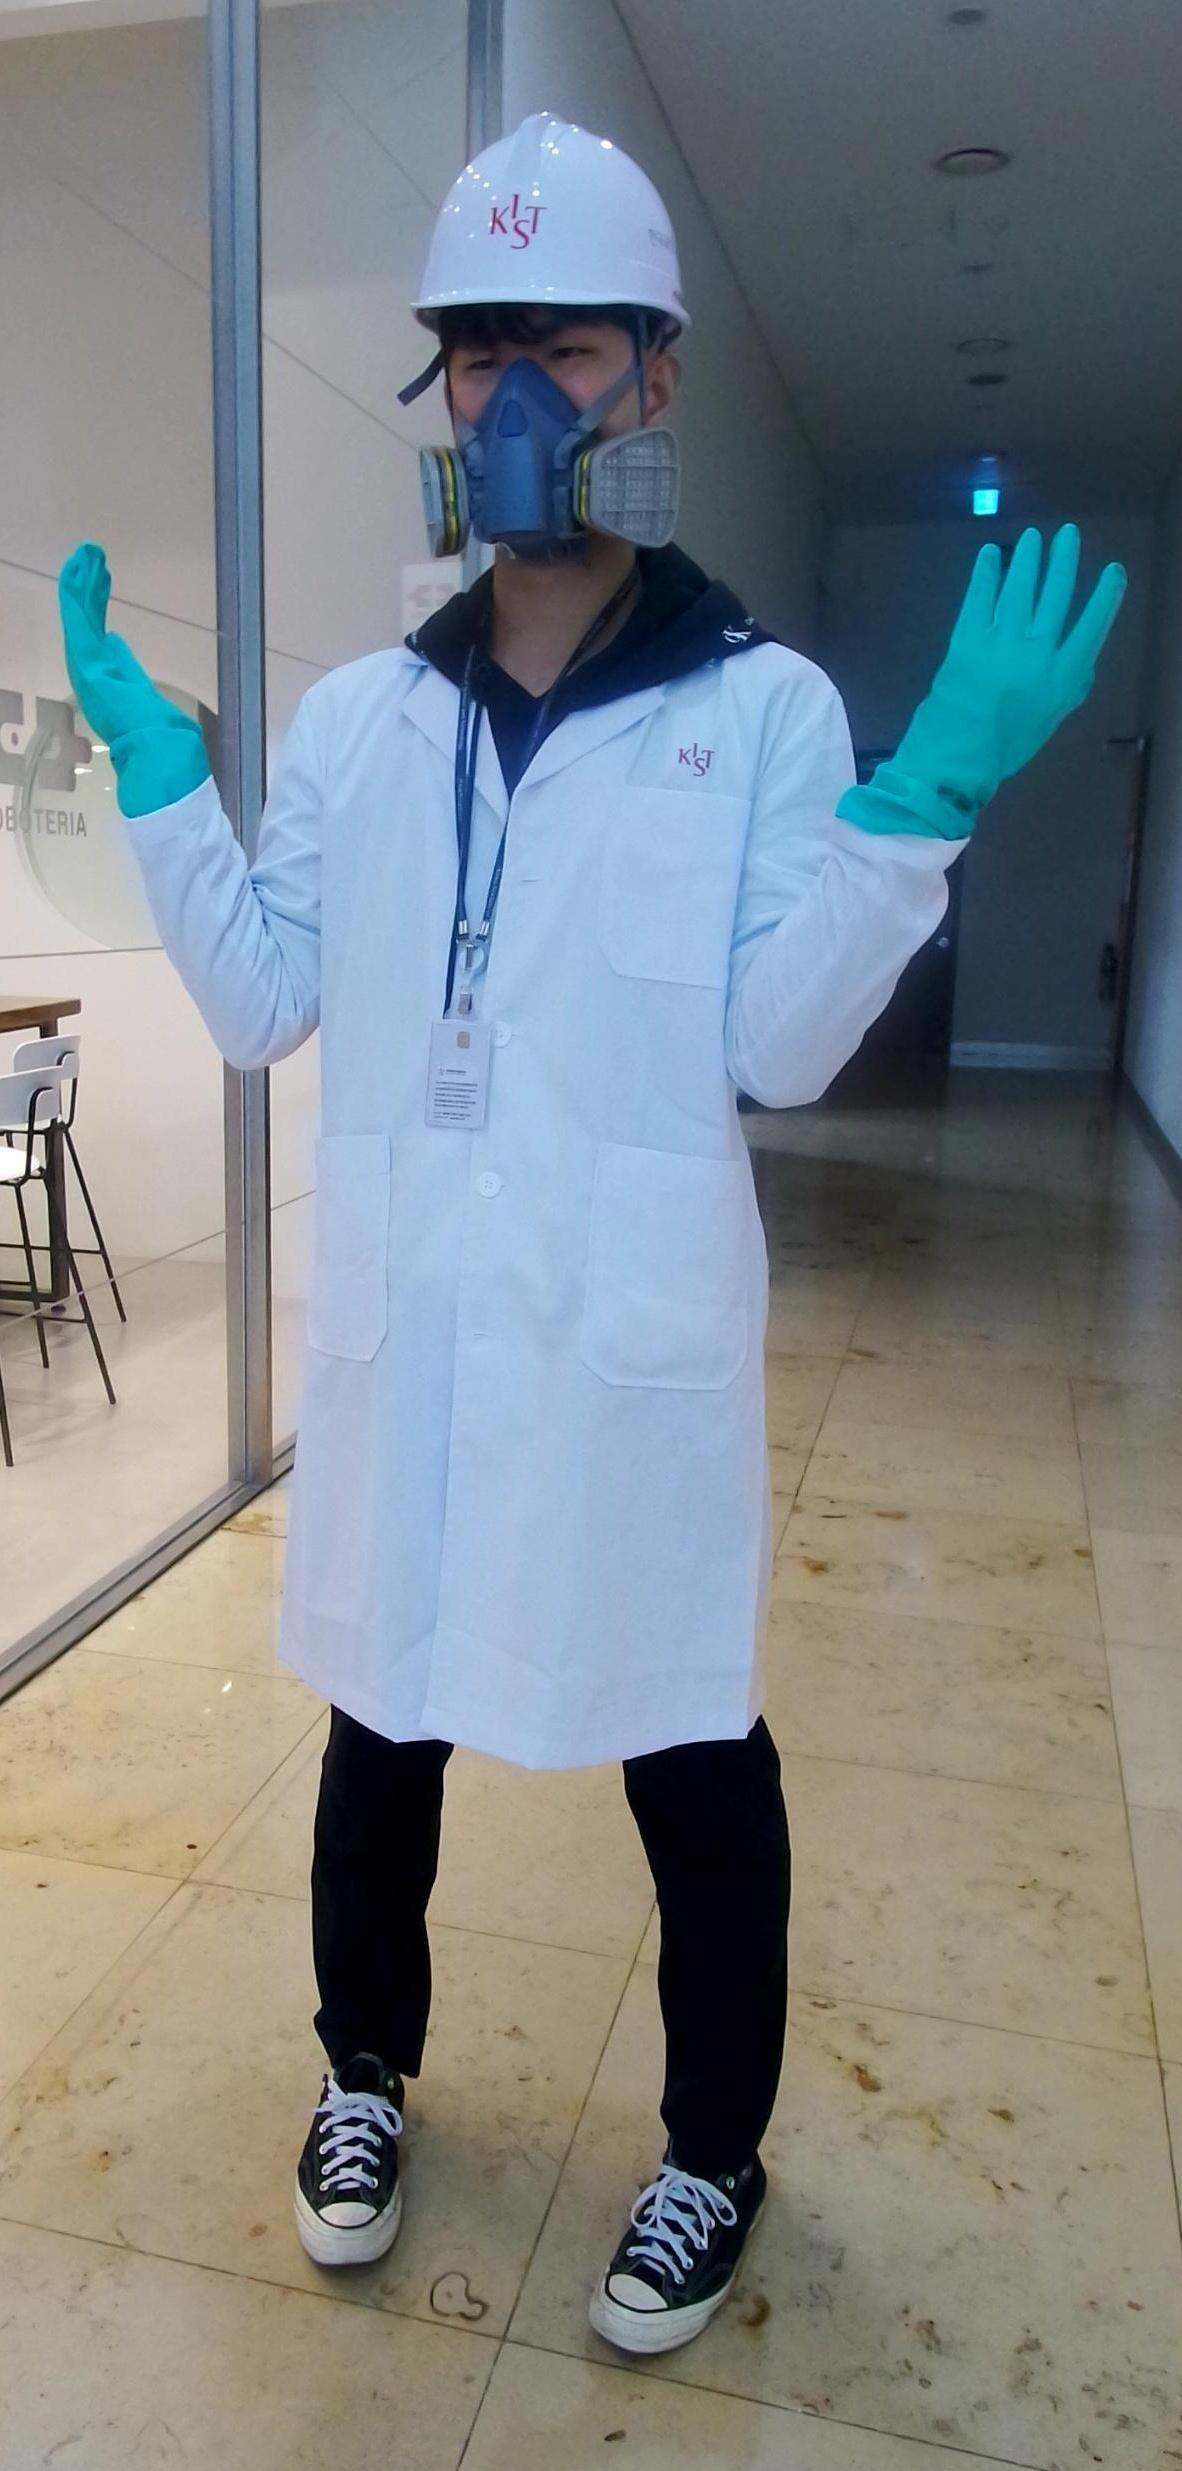lab_coat: (257, 686, 831, 1767)
